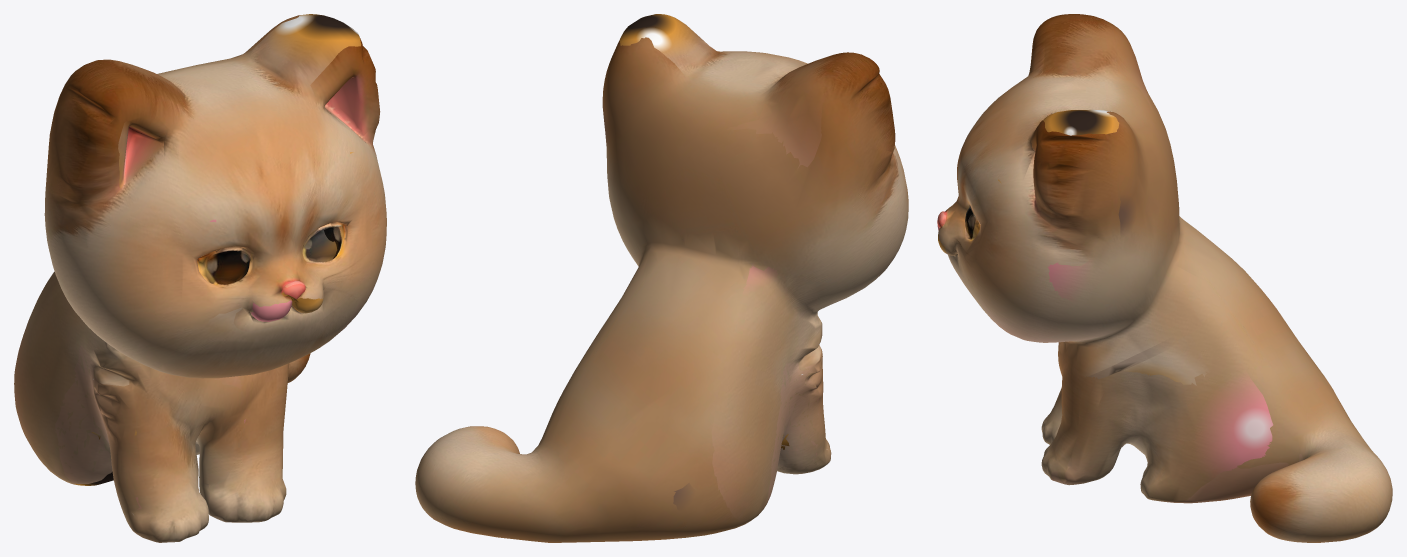
Rendered from qqcat-prod-alive.glb.
3 views of the same model, side by side, from view 1: azimuth 30°, elevation 25°; view 2: azimuth 150°, elevation 25°; view 3: azimuth 270°, elevation 25° (orthographic). The views are drawn at different scales.
Parts seen in each view (by area): view 1: node_0; view 2: node_0; view 3: node_0.
Boxes of the visible parts, x1=… form: node_0: x1=14, y1=14, x2=386, y2=542; node_0: x1=415, y1=14, x2=908, y2=542; node_0: x1=937, y1=14, x2=1392, y2=542.
Bounding box in the file's own units: 0.6645 × 0.8028 × 0.8218.
1 material, 1 textured.
